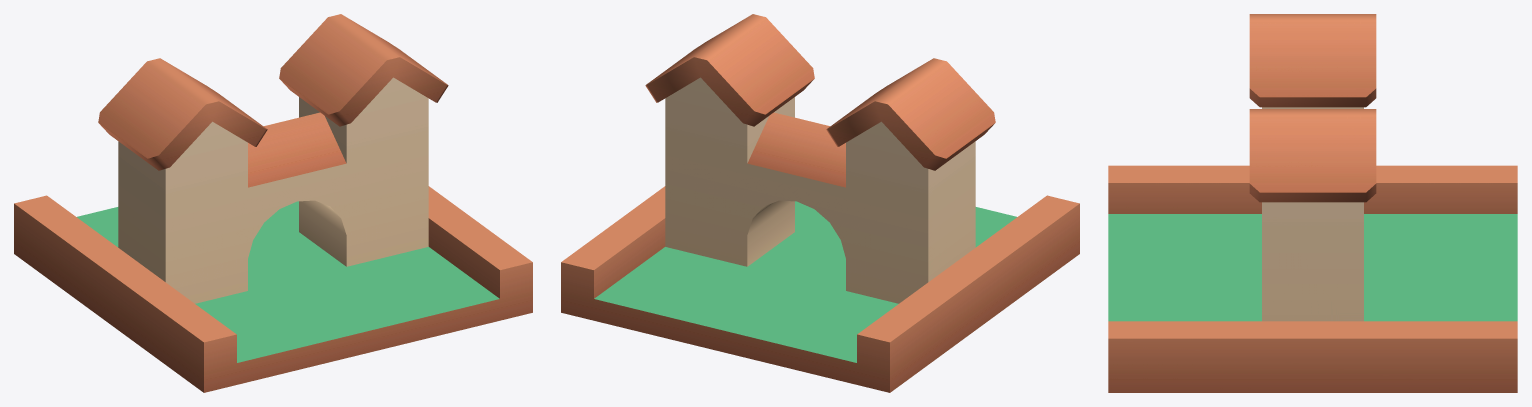
File: castle.glb
3 views of the same model, side by side, from view 1: azimuth 30°, elevation 25°; view 2: azimuth 150°, elevation 25°; view 3: azimuth 270°, elevation 25° (orthographic). The views are drawn at different scales.
Parts seen in each view (by area): view 1: castle; view 2: castle; view 3: castle.
Boxes of the visible parts, x1,y1,x2,y2 form: castle: [14, 14, 532, 392]; castle: [561, 14, 1079, 392]; castle: [1108, 14, 1517, 392].
Size of the model in its own units: 0.9999 by 0.651 by 0.9999.
Materials: 1 (1 with a texture image).
